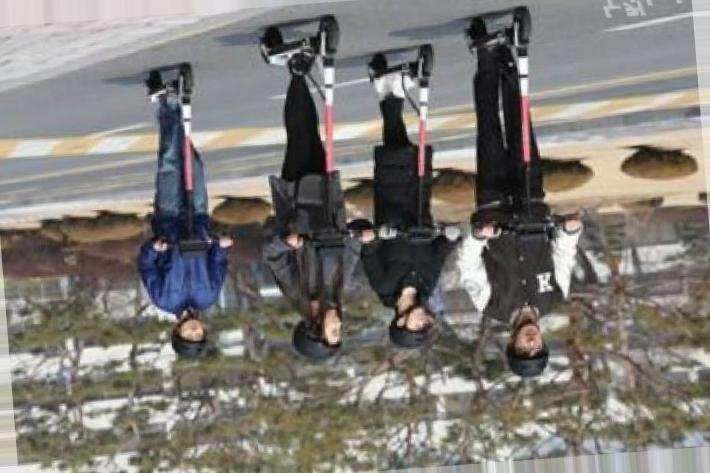scooter: (259, 15, 378, 247), (462, 5, 579, 239), (366, 43, 461, 244), (145, 63, 233, 255)
with helmet: (292, 308, 341, 360), (507, 321, 547, 377), (389, 304, 431, 348), (172, 319, 205, 358)
